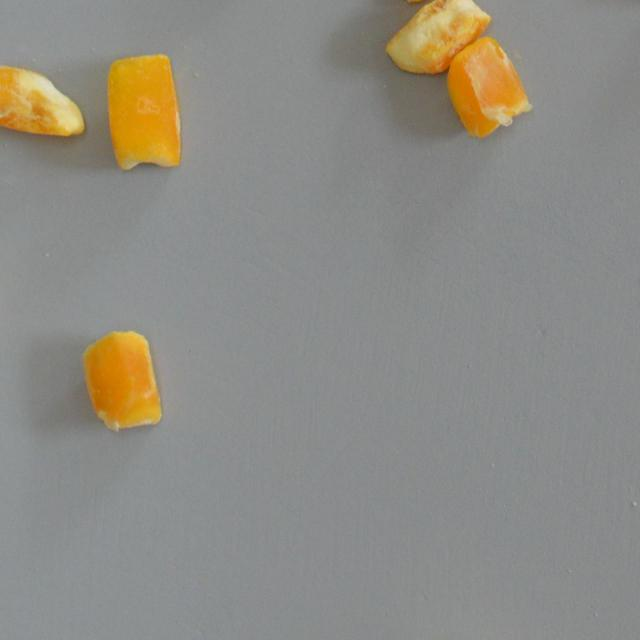estandar: (80, 330, 162, 430)
pelicula: (104, 51, 183, 170), (447, 36, 534, 141), (379, 0, 488, 76), (0, 59, 86, 142)
